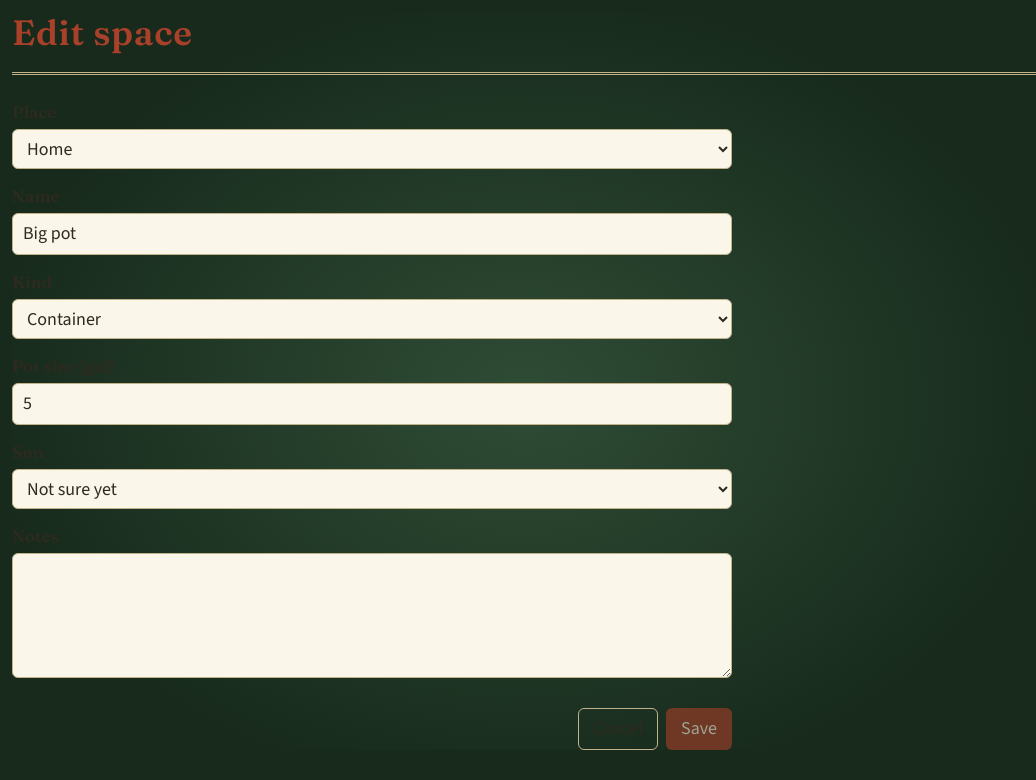
Test: space form › switching kind hides the old kind's field
Expected: the field labelled "Pot size (gal)" holds "5", 12,383 -> 732,425
Select "Bed" in the dropdown labelled "Kind": (372, 319) 12,299 -> 732,339
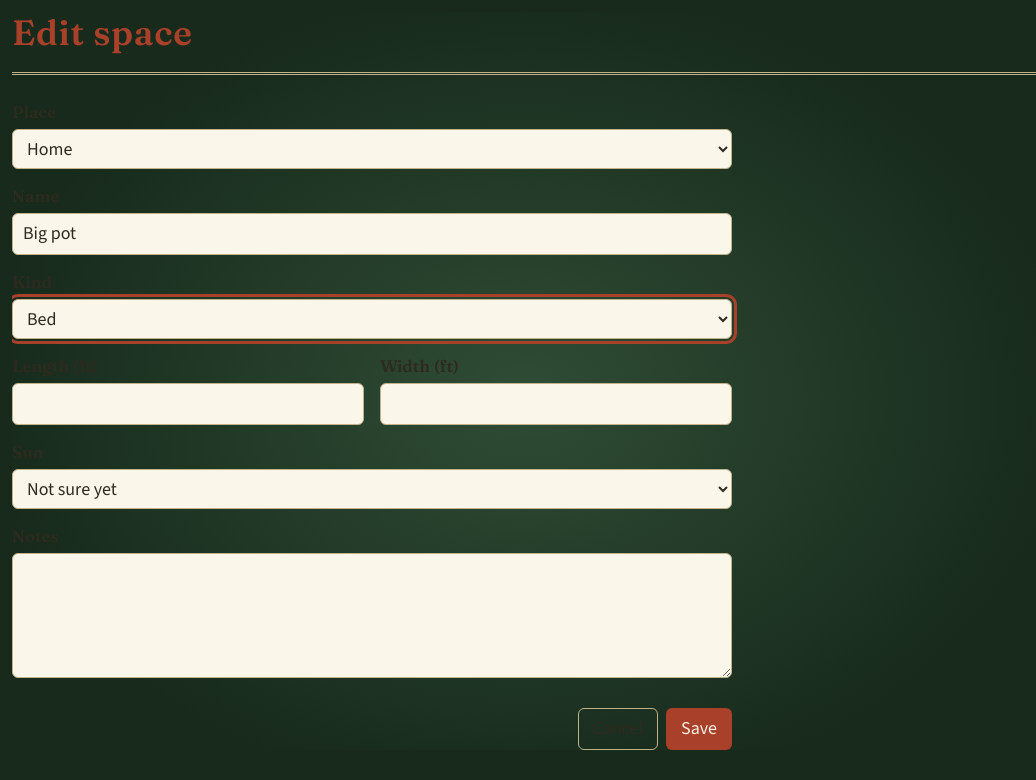
Expected: the label labelled "Pot size (gal)" is gone
